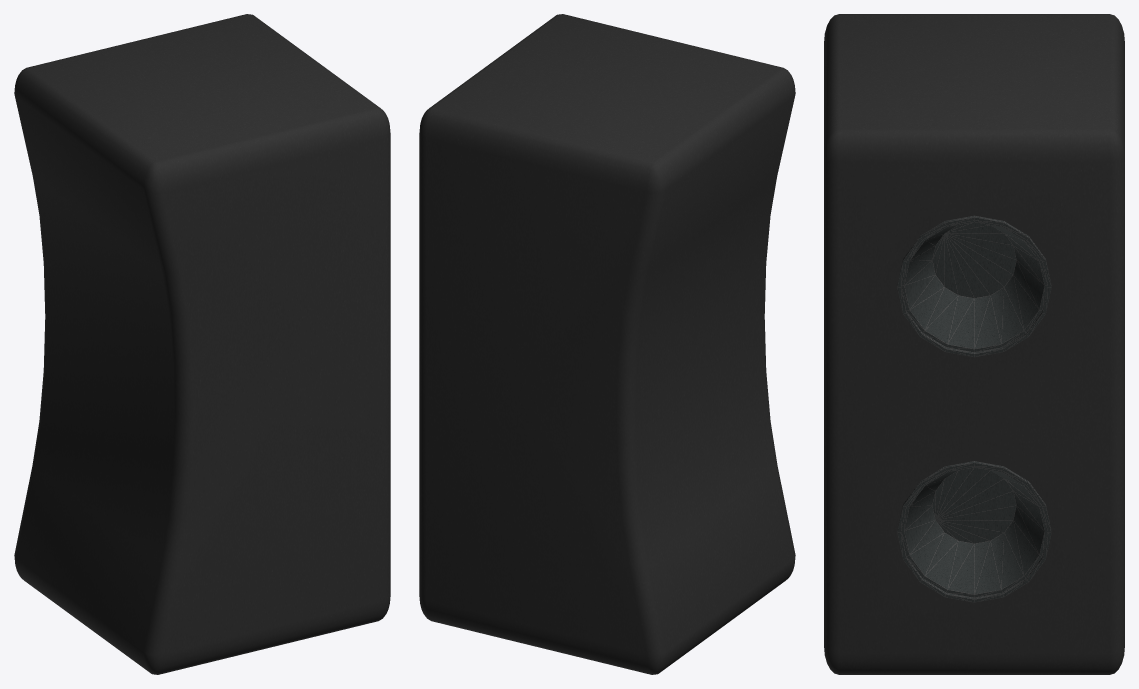
The model's file is speaker.obj.
3 renders of one model, left to right at view 1: azimuth 30°, elevation 25°; view 2: azimuth 150°, elevation 25°; view 3: azimuth 270°, elevation 25°, orthographic. The views are drawn at different scales.
Parts seen in each view (by area): view 1: speaker; view 2: speaker; view 3: speaker.
Boxes of the visible parts, bbox=[...] form: speaker: bbox=[14, 14, 390, 674]; speaker: bbox=[419, 14, 795, 674]; speaker: bbox=[824, 14, 1124, 674].
Size of the model in its own units: 0.1523 by 0.3 by 0.15.
2 materials, 2 textured.
